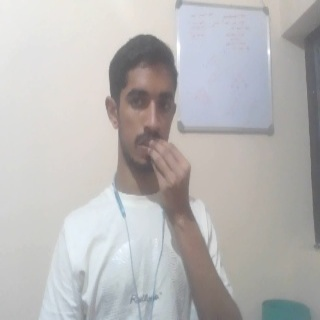Food: (147, 136, 196, 231)
